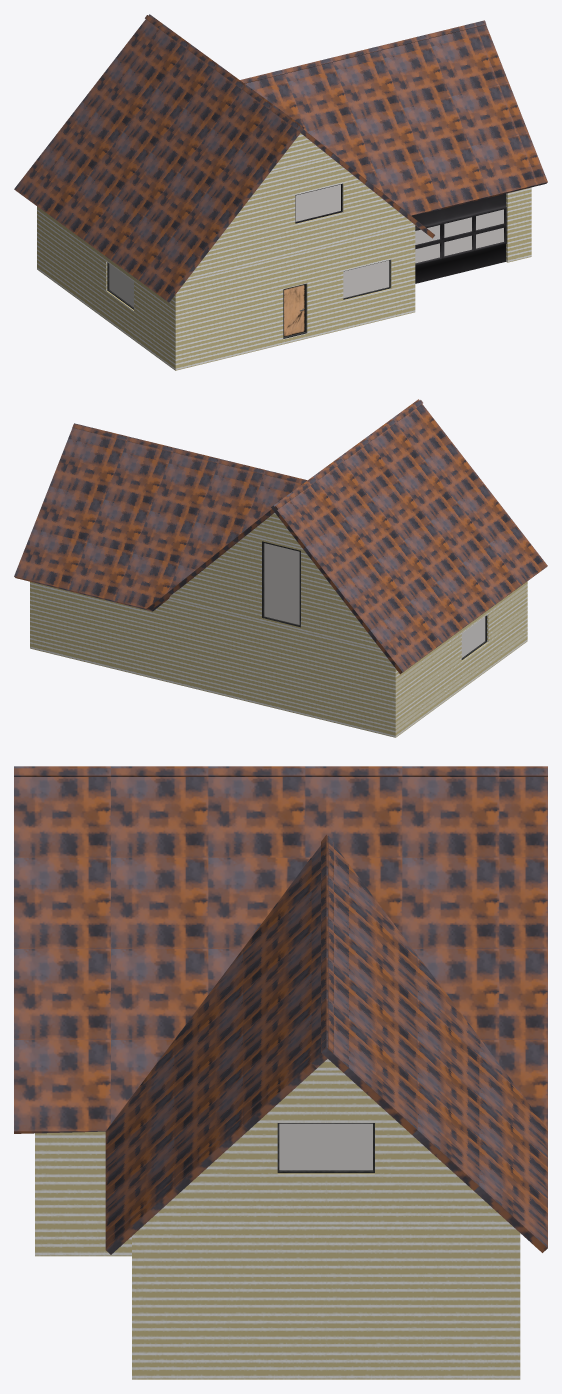
The model's file is House4.fbx.
3 renders of one model, top to bottom at view 1: azimuth 30°, elevation 25°; view 2: azimuth 150°, elevation 25°; view 3: azimuth 270°, elevation 25°, orthographic. The views are drawn at different scales.
Parts seen in each view (by area): view 1: House4; view 2: House4; view 3: House4.
Boxes of the visible parts, bbox=[...] form: House4: bbox=[14, 14, 547, 370]; House4: bbox=[14, 399, 547, 737]; House4: bbox=[14, 766, 547, 1379].
Bounding box in the file's own units: 17 × 8.77 × 11.
